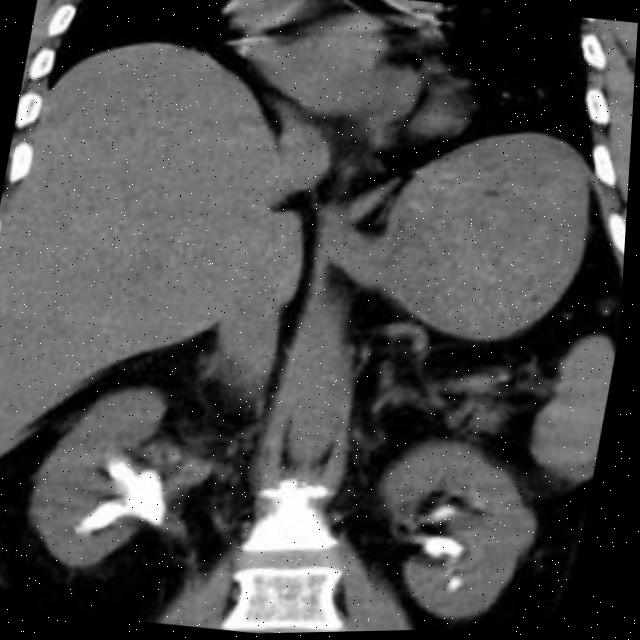Tas_Var: (97, 451, 197, 539), (72, 493, 141, 547), (423, 529, 482, 574), (425, 498, 473, 534), (447, 571, 477, 603), (475, 499, 491, 514)
